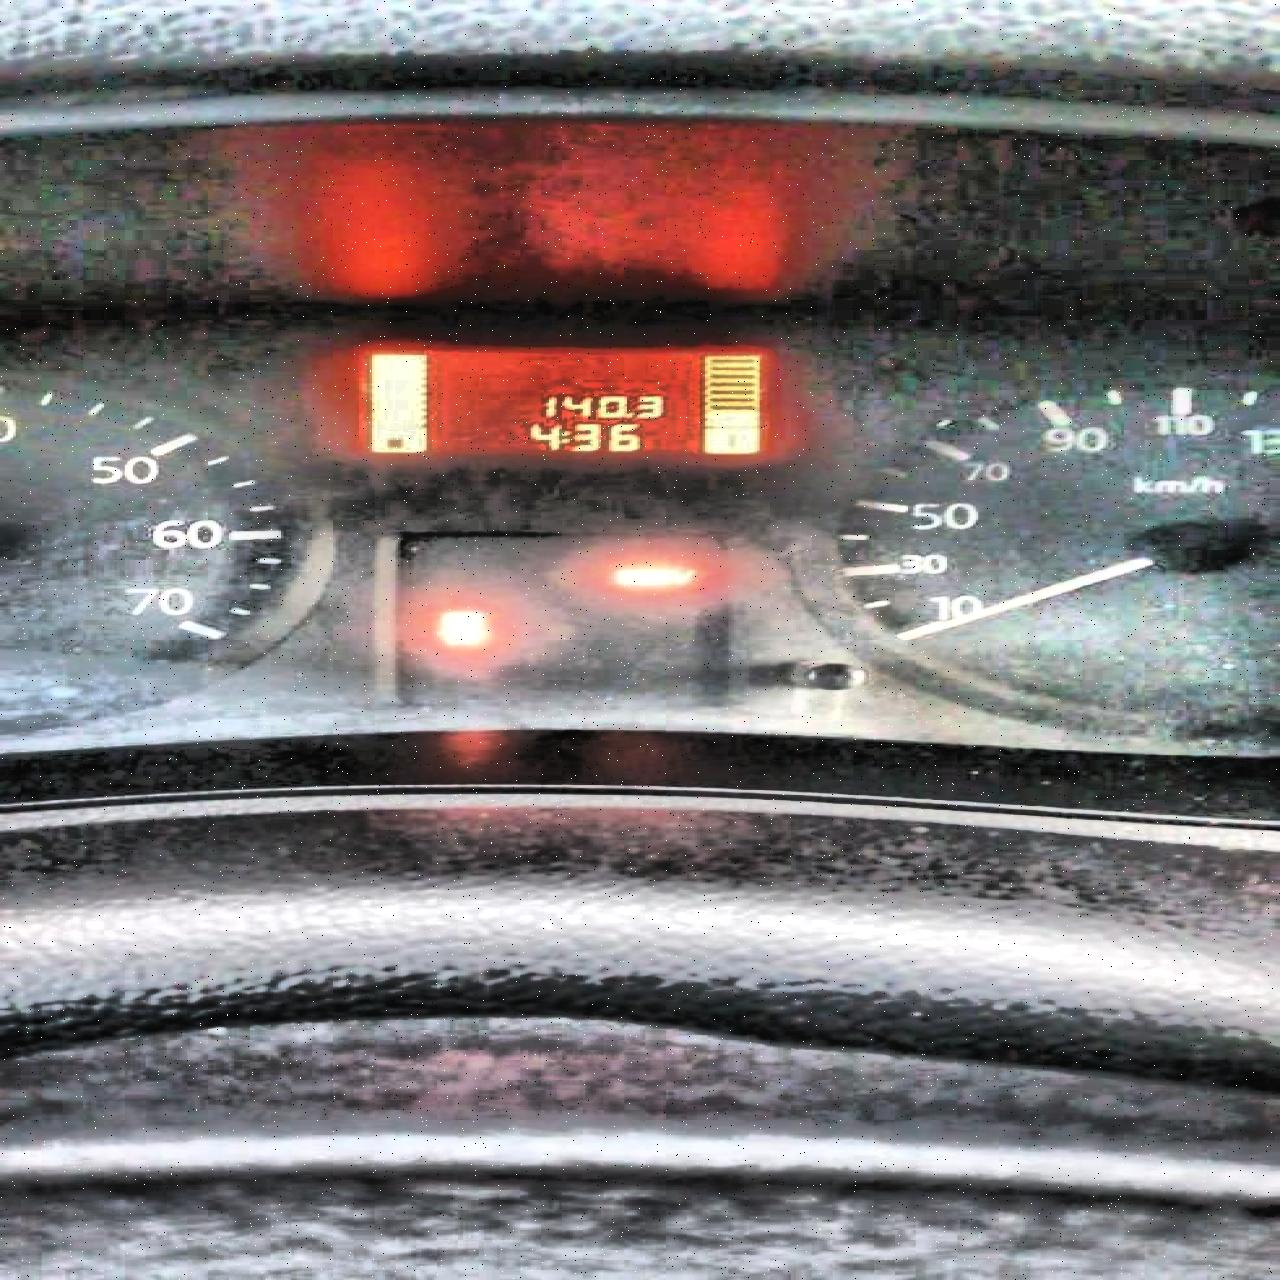-: (625, 410, 635, 418)
0: (595, 393, 625, 418)
1: (542, 394, 554, 416)
3: (570, 421, 598, 451), (635, 393, 663, 417)
4: (525, 422, 557, 450), (557, 394, 591, 417)
6: (604, 421, 640, 451)
X: (559, 428, 567, 443)
odometer: (343, 339, 789, 462)
